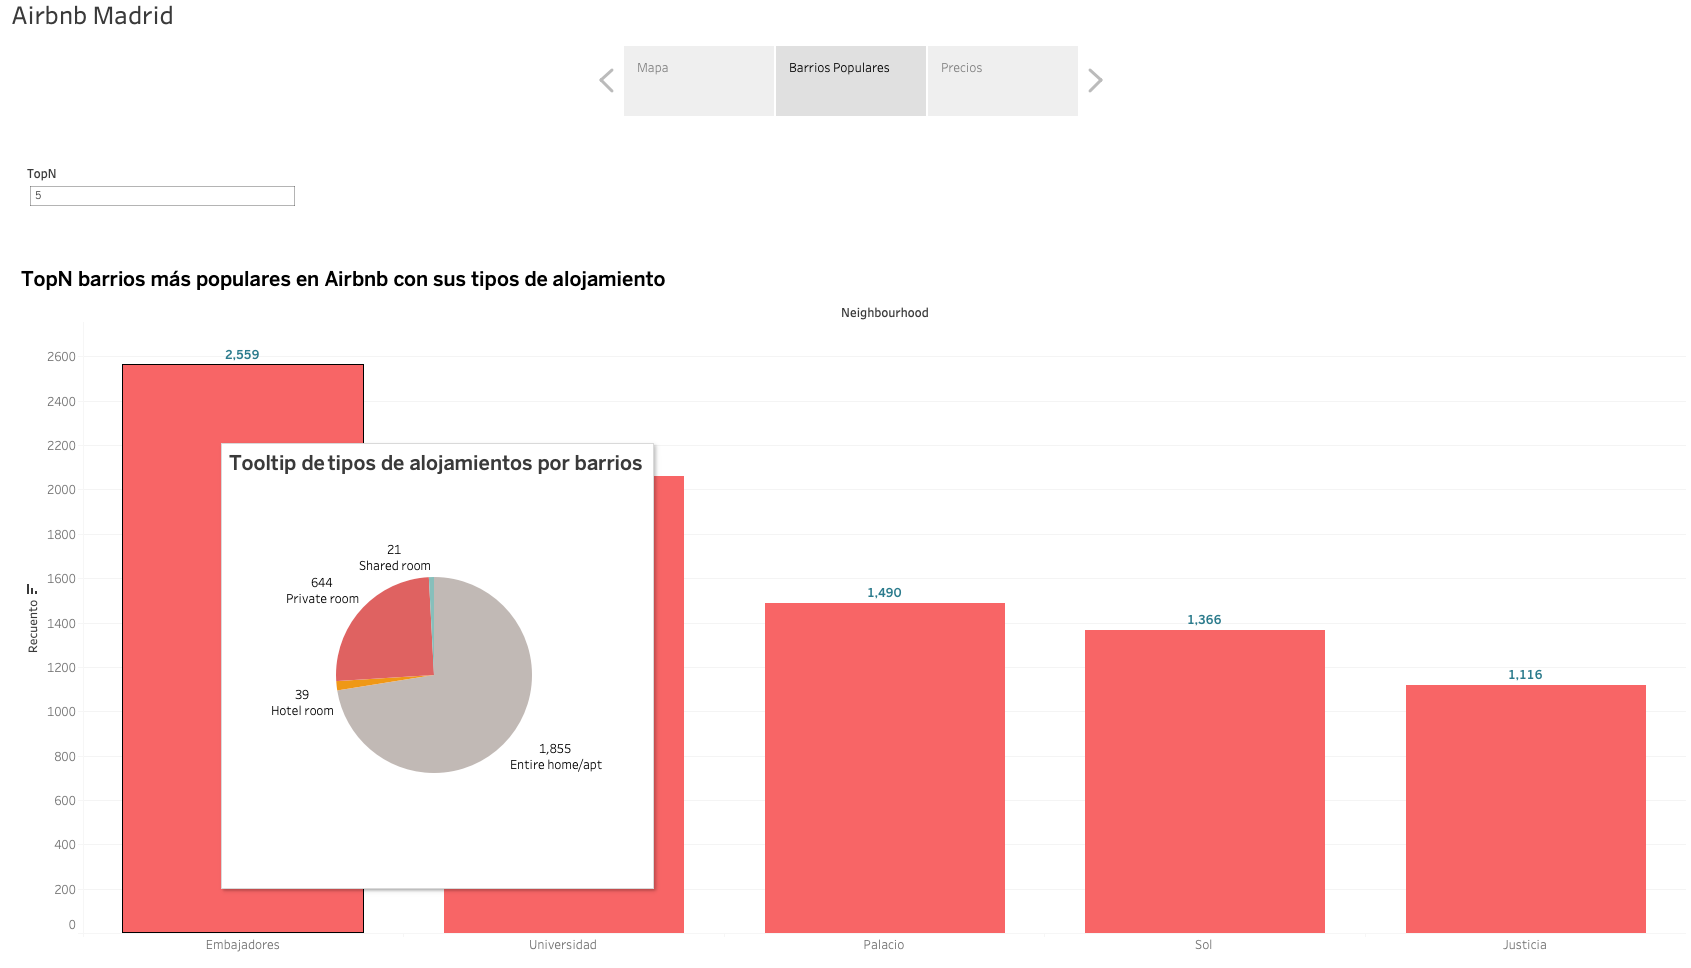

This screenshot's page, from the dashboard's own definition file:
{"tool":"tableau","page":{"name":"Barrios Populares","canvas":[1000,1000],"units":"permille","ordinal":0},"visuals":[{"type":"parameter","param":"[Parameters].[Parámetro 1]","box":[13,35,160,65]},{"type":"worksheet","title":"Barrios populares","mark":"Bar","rows":["Neighbourhood"],"cols":["Neighbourhood"],"box":[5,148.7,990,841.4]}]}

Visuals, with their boxes on the dashboard's canvas, which has no fixed pixel size, in thousandths of its width and height (x1, y1, x2, y2). These are canvas units, not pixel positions in the 1691x968 screenshot, which may show the page scaled, cropped or inside an application window:
parameter: 13, 35, 173, 100
"Barrios populares" worksheet (Bar marks): 5, 149, 995, 990
